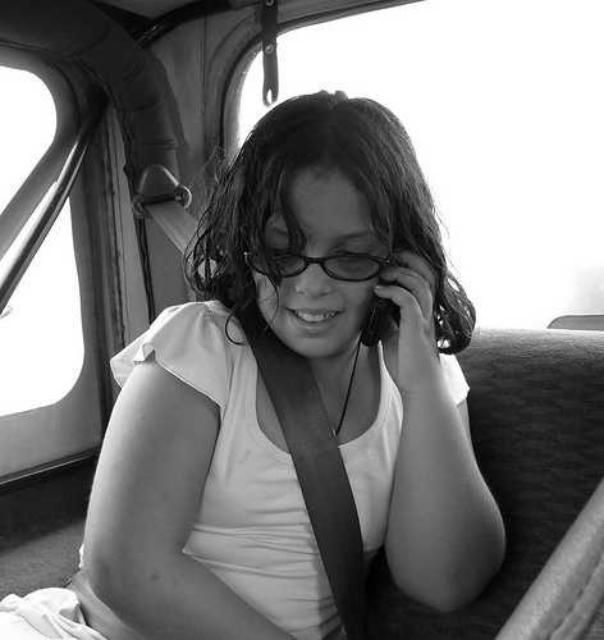Seatbelt: (128, 166, 368, 640)
